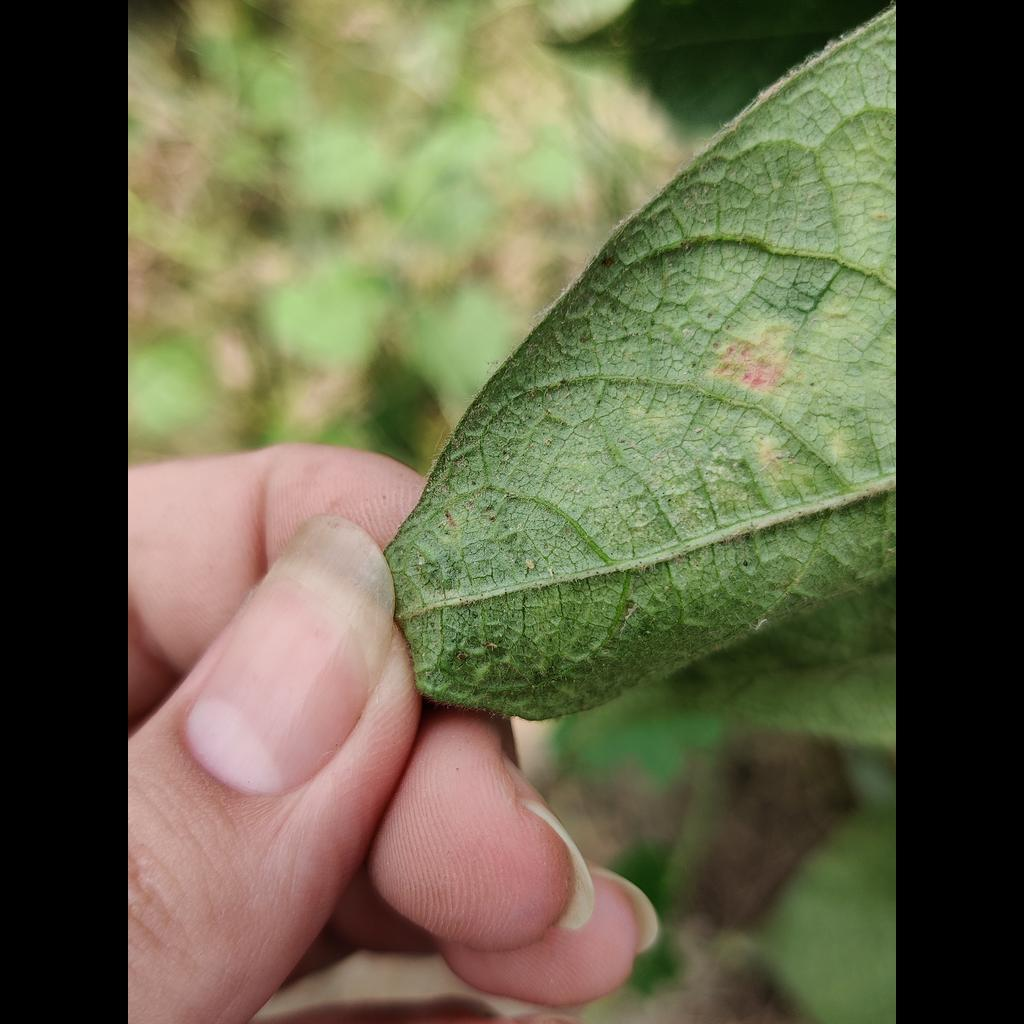nymph: (526, 558, 535, 569), (417, 556, 426, 566), (694, 427, 704, 434)
